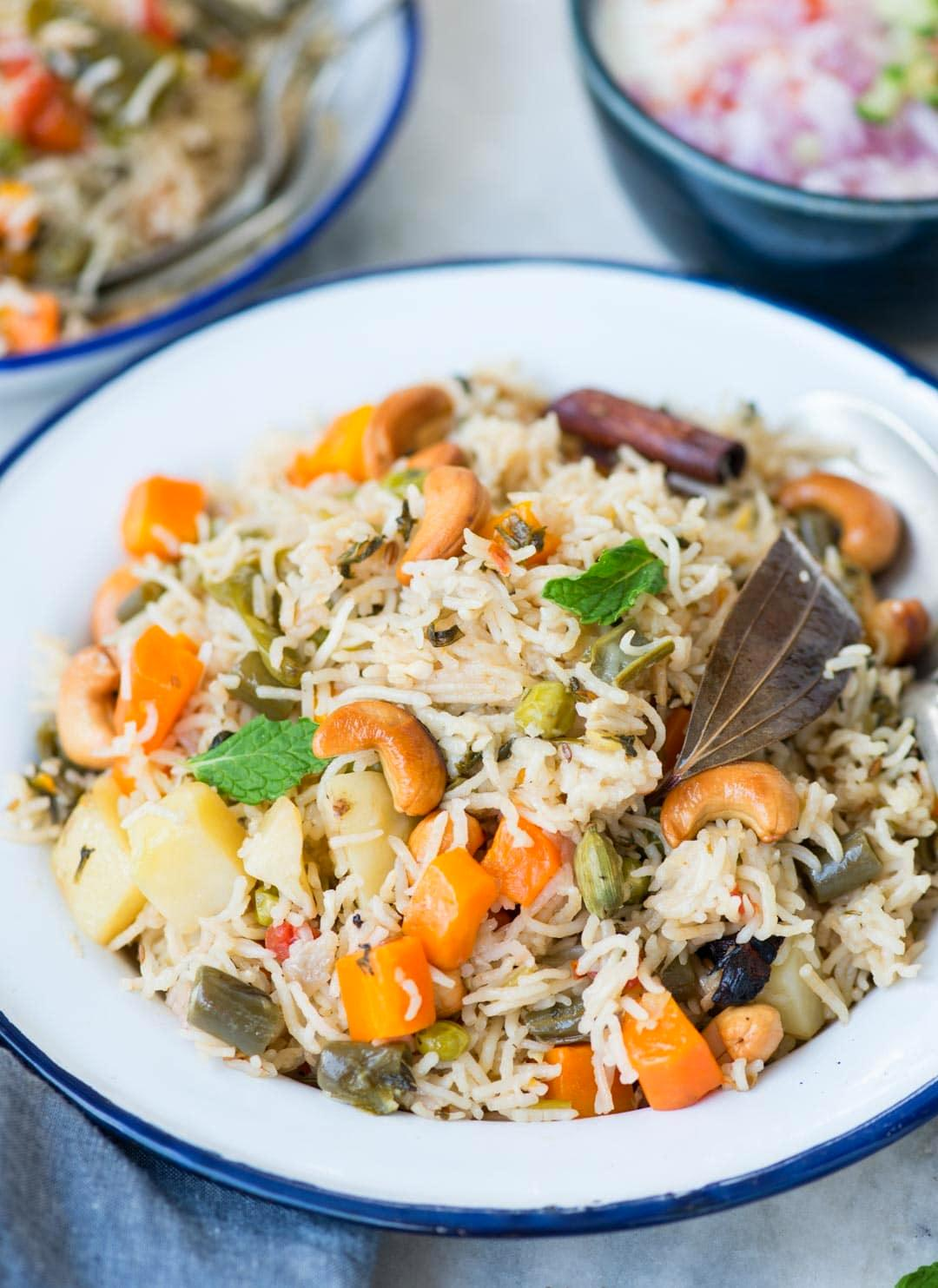veg-pulao: (96, 400, 938, 1209), (0, 0, 369, 293)
